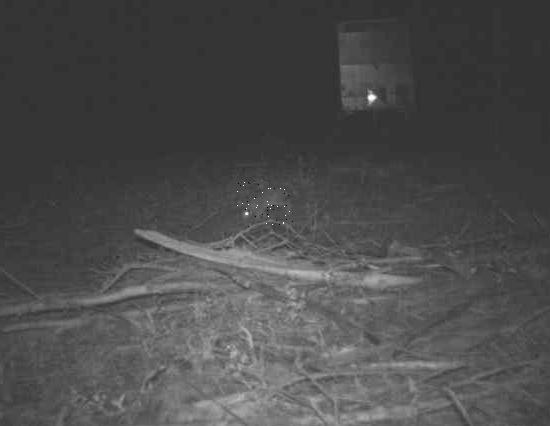Rabbit: (237, 183, 293, 228)
